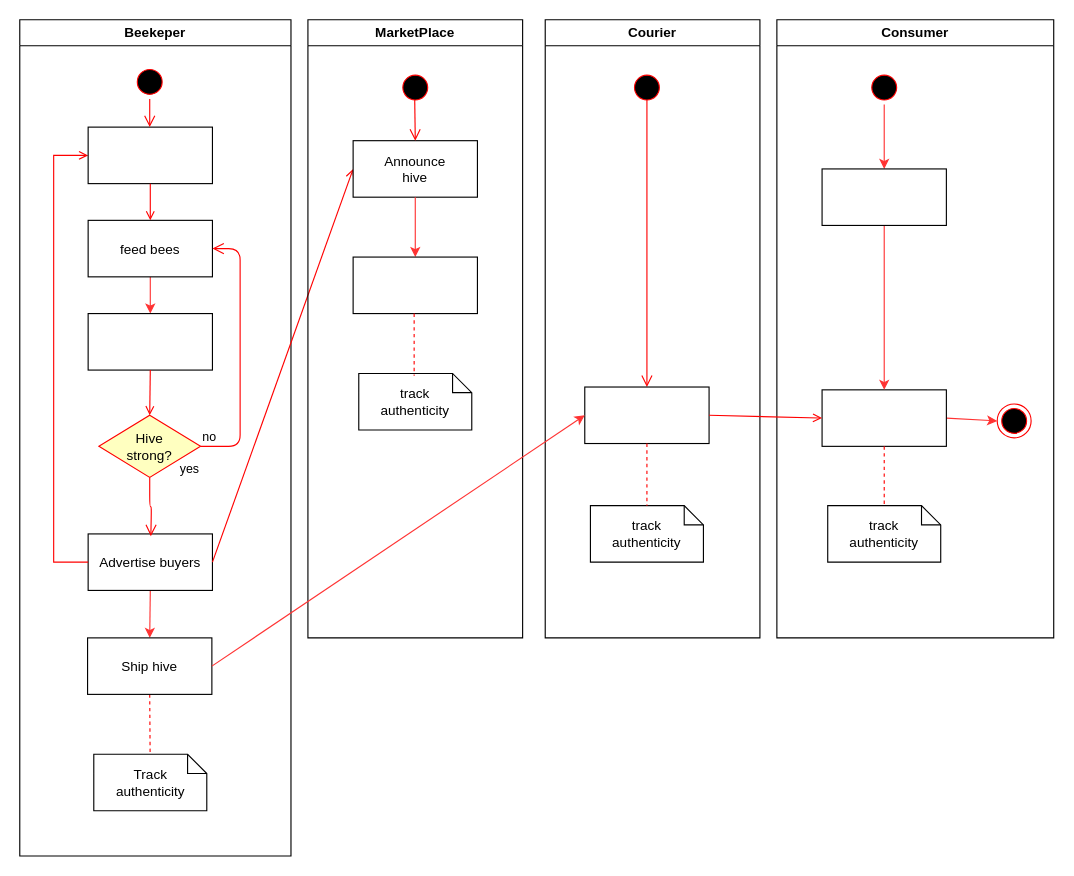
Image size: 1074x876. Some labels were removed from this diagram. The centre of each missing label's shape, as x and y in pixels:
"Buy" belongs at (883,196).
"Delilver hive" belongs at (646,415).
"Division/capture of hive" belongs at (149,155).
"Hive monitoring" belongs at (149,341).
"Receive" belongs at (883,417).
"sell hive" belongs at (414,285).
